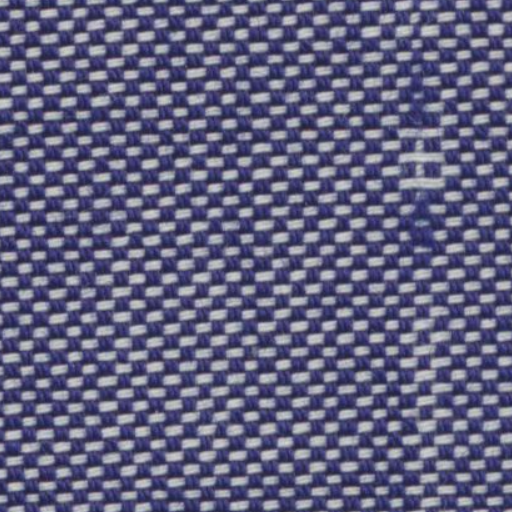TuoSha: (368, 30, 477, 498)
